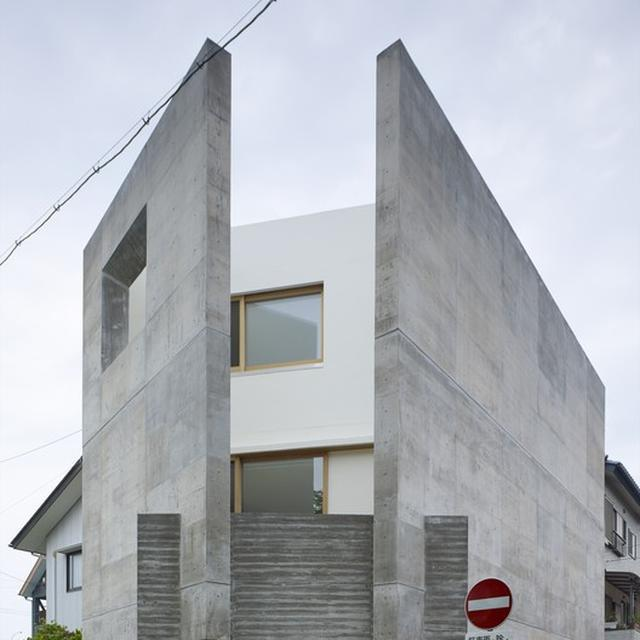building: (83, 35, 602, 640), (6, 450, 84, 640), (603, 451, 640, 640)
